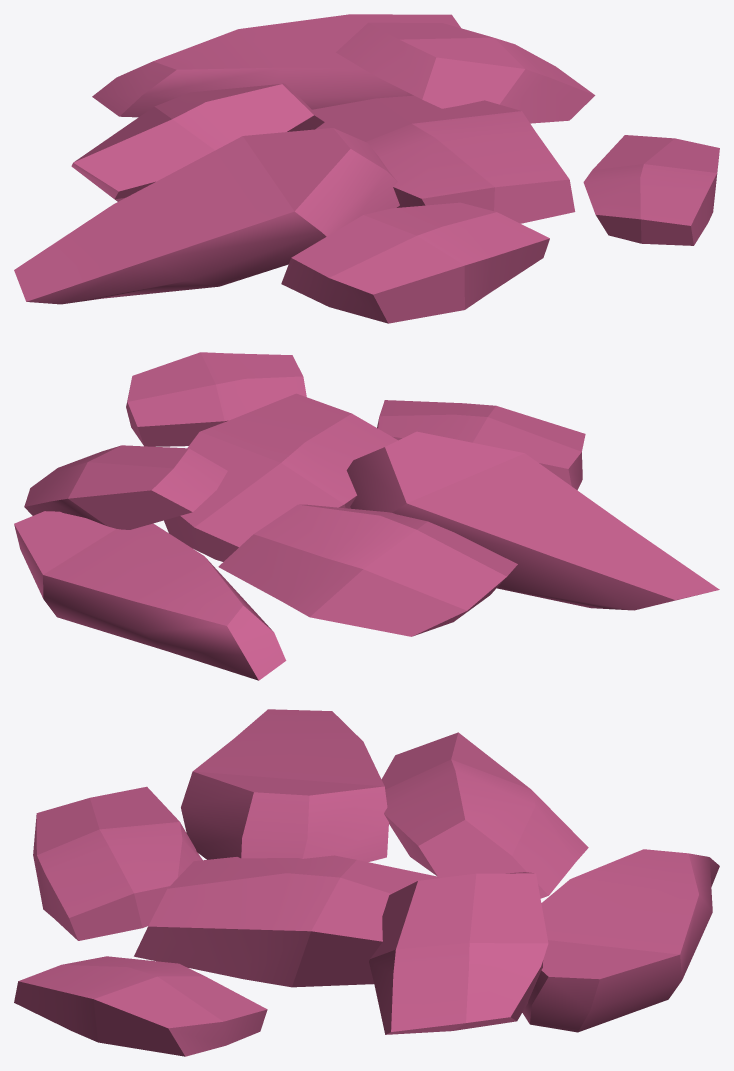
The model's file is Rock_Scree_01_Lod1.fbx.
3 renders of one model, top to bottom at view 1: azimuth 30°, elevation 25°; view 2: azimuth 150°, elevation 25°; view 3: azimuth 270°, elevation 25°, orthographic. The views are drawn at different scales.
Parts seen in each view (by area): view 1: Rock_Scree_01_Lod1; view 2: Rock_Scree_01_Lod1; view 3: Rock_Scree_01_Lod1.
Part boxes in pixels (x1=…): Rock_Scree_01_Lod1: x1=14, y1=14, x2=719, y2=323; Rock_Scree_01_Lod1: x1=14, y1=352, x2=719, y2=680; Rock_Scree_01_Lod1: x1=14, y1=709, x2=719, y2=1056.
Size of the model in its own units: 897 by 137 by 763.
